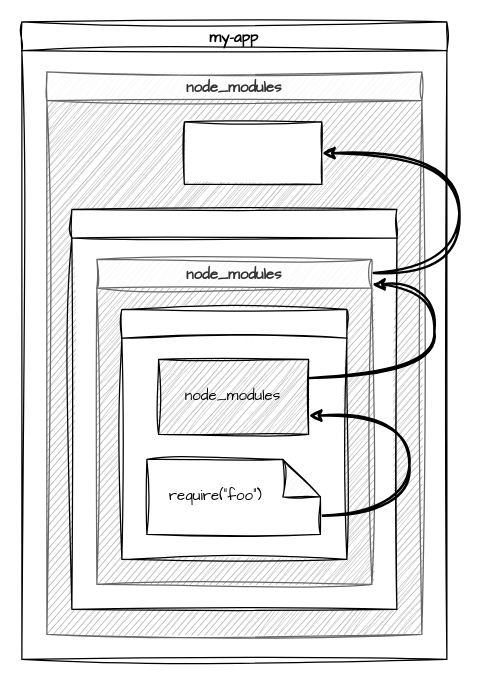
This 483x681 diagram has some shape labels left out. The shapes that lost their labels are listed below. From the top down, each one's box as (x1, y1, x2, y2) in pixels, then its label:
(183, 121, 322, 184): foo
(71, 208, 397, 609): bar
(121, 308, 347, 559): baz
